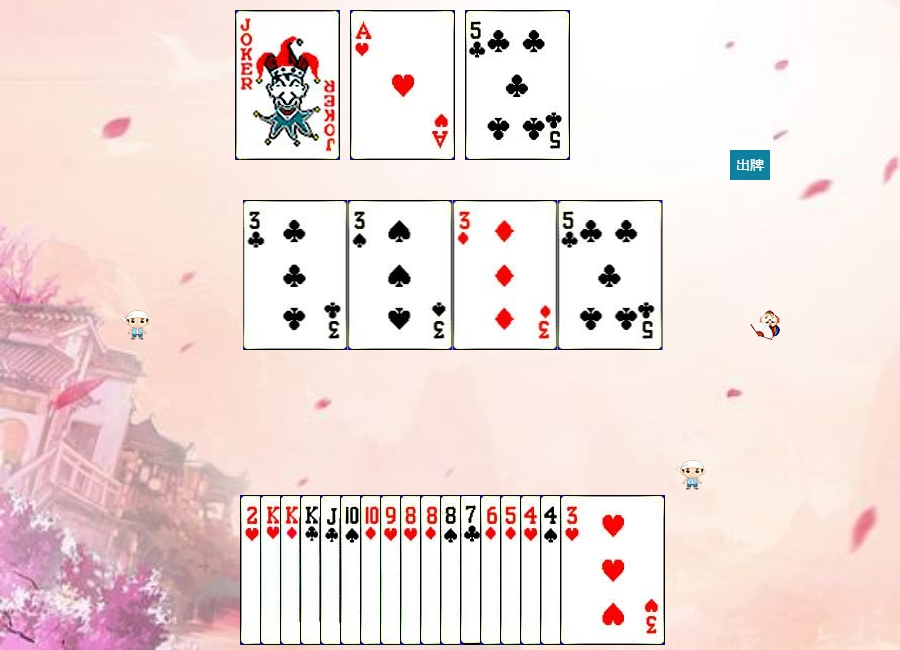10~1: (360, 495, 465, 645)
10~4: (340, 495, 445, 645)
11~2: (320, 495, 425, 645)
13~1: (280, 495, 385, 645)
13~2: (300, 495, 405, 645)
13~3: (260, 495, 365, 645)
14~3: (350, 10, 455, 160)
15~3: (240, 495, 345, 645)
18~4: (235, 10, 340, 160)
3~1: (453, 200, 558, 350)
3~2: (243, 200, 348, 350)
3~3: (560, 495, 665, 645)
3~4: (348, 200, 453, 350)
4~3: (520, 495, 625, 645)
4~4: (540, 495, 645, 645)
5~1: (500, 495, 605, 645)
5~2: (465, 10, 570, 160), (558, 200, 663, 350)
6~1: (480, 495, 585, 645)
7~2: (460, 495, 565, 645)
8~1: (420, 495, 525, 645)
8~3: (400, 495, 505, 645)
8~4: (440, 495, 545, 645)
9~3: (380, 495, 485, 645)
